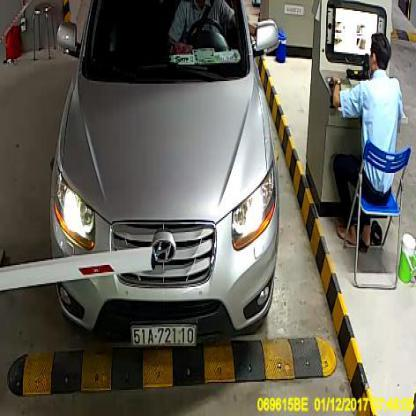biensoxe: (130, 324, 196, 348)
